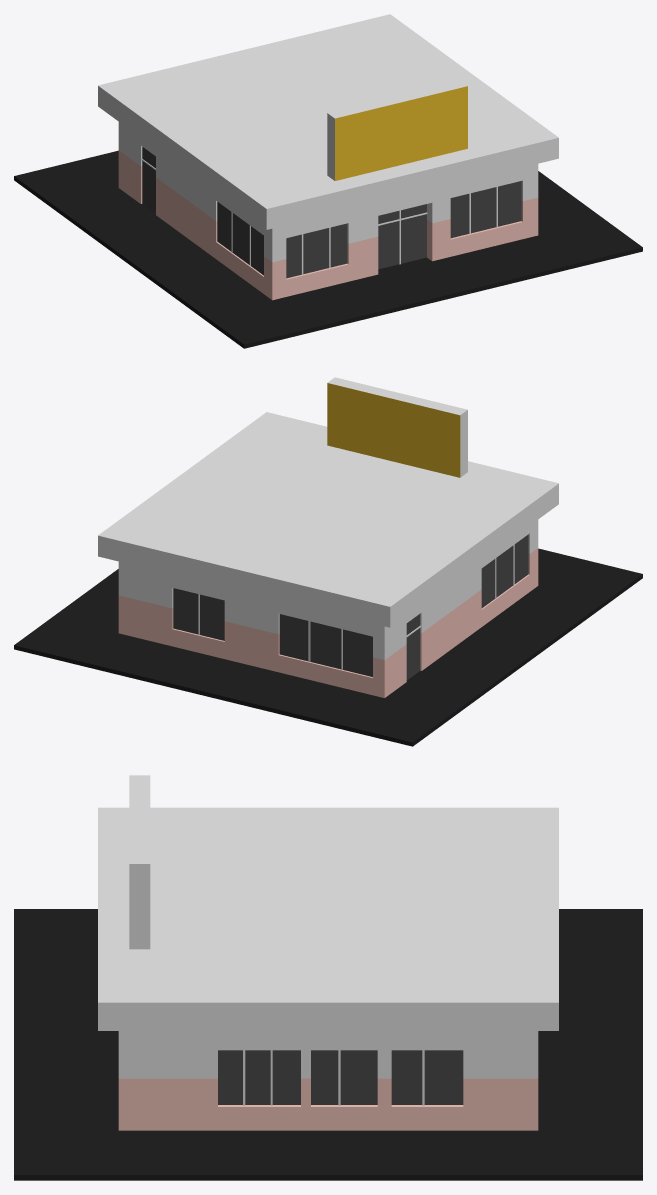
The model's file is Shop.fbx.
3 renders of one model, top to bottom at view 1: azimuth 30°, elevation 25°; view 2: azimuth 150°, elevation 25°; view 3: azimuth 270°, elevation 25°, orthographic. The views are drawn at different scales.
Visible parts, largest first — view 1: Shop, Shop Base, Road; view 2: Shop, Shop Base; view 3: Shop, Shop Base, Road.
Part boxes in pixels (box(x1,y1,x2,y2)): Shop: box(98, 14, 558, 300); Shop Base: box(14, 150, 642, 348); Road: box(365, 257, 484, 309); Shop: box(98, 377, 558, 697); Shop Base: box(14, 548, 642, 746); Shop: box(98, 775, 558, 1130); Shop Base: box(14, 909, 642, 1180); Road: box(14, 1015, 118, 1068).
Size of the model in its own units: 2000 by 800 by 2000.
